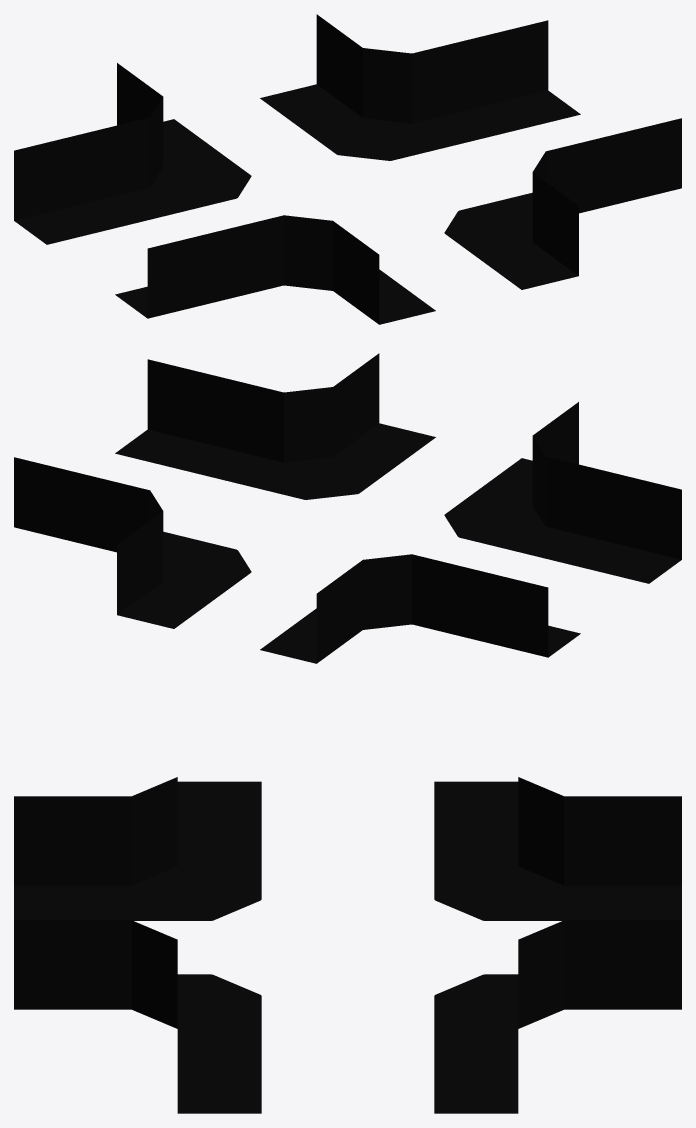
Rendered from Comercio_Cruce_Relleno.FBX.
3 renders of one model, top to bottom at view 1: azimuth 30°, elevation 25°; view 2: azimuth 150°, elevation 25°; view 3: azimuth 270°, elevation 25°, orthographic. The views are drawn at different scales.
Visible parts, largest first — view 1: Comercio_Cruce_Relleno; view 2: Comercio_Cruce_Relleno; view 3: Comercio_Cruce_Relleno.
Part boxes in pixels (box(x1,y1,x2,y2)): Comercio_Cruce_Relleno: box(14, 14, 681, 324); Comercio_Cruce_Relleno: box(14, 353, 681, 663); Comercio_Cruce_Relleno: box(14, 777, 681, 1113).
Size of the model in its own units: 10000 by 8500 by 1255.
